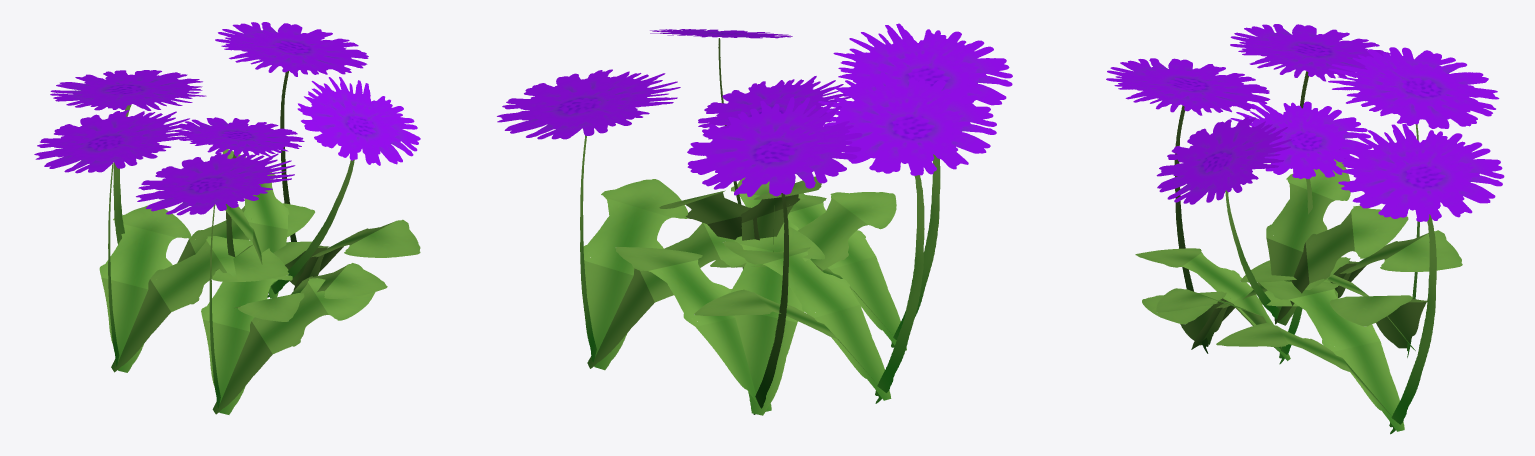
File: ARC0710010.fbx
3 renders of one model, left to right at view 1: azimuth 30°, elevation 25°; view 2: azimuth 150°, elevation 25°; view 3: azimuth 270°, elevation 25°, orthographic. The views are drawn at different scales.
Parts seen in each view (by area): view 1: smARC0710010; view 2: smARC0710010; view 3: smARC0710010.
Part boxes in pixels (<box>): smARC0710010: <box>34,22,420,414</box>; smARC0710010: <box>497,23,1012,415</box>; smARC0710010: <box>1106,24,1504,434</box>.
Bounding box in the file's own units: 36.38 × 24.73 × 33.35.
Materials: 1 (1 with a texture image).
